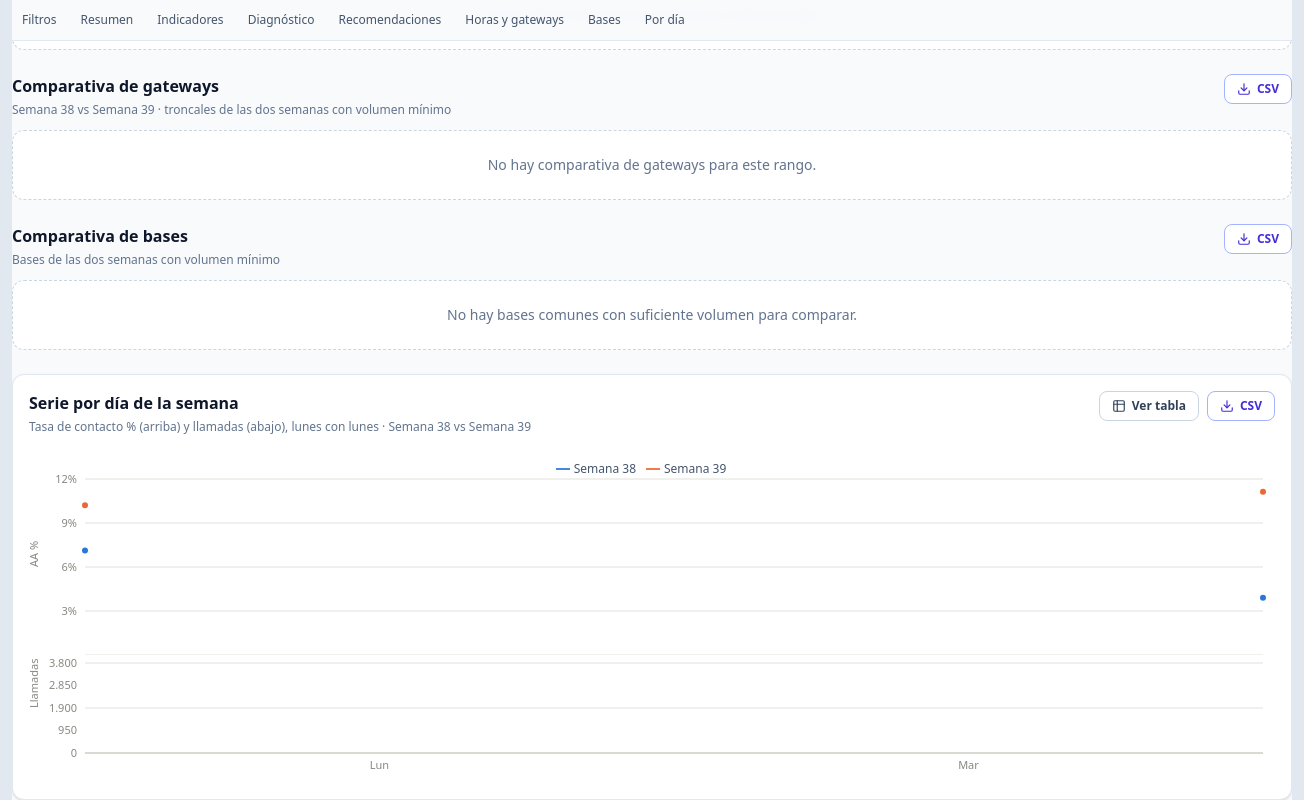
WeeksCompareMode › muestra las secciones con las etiquetas de las semanas y alinea los días
(page scrolled)
Click the button with test id "chart-table-toggle" at (1149, 406), box [1099,391,1199,421]
(page scrolled)
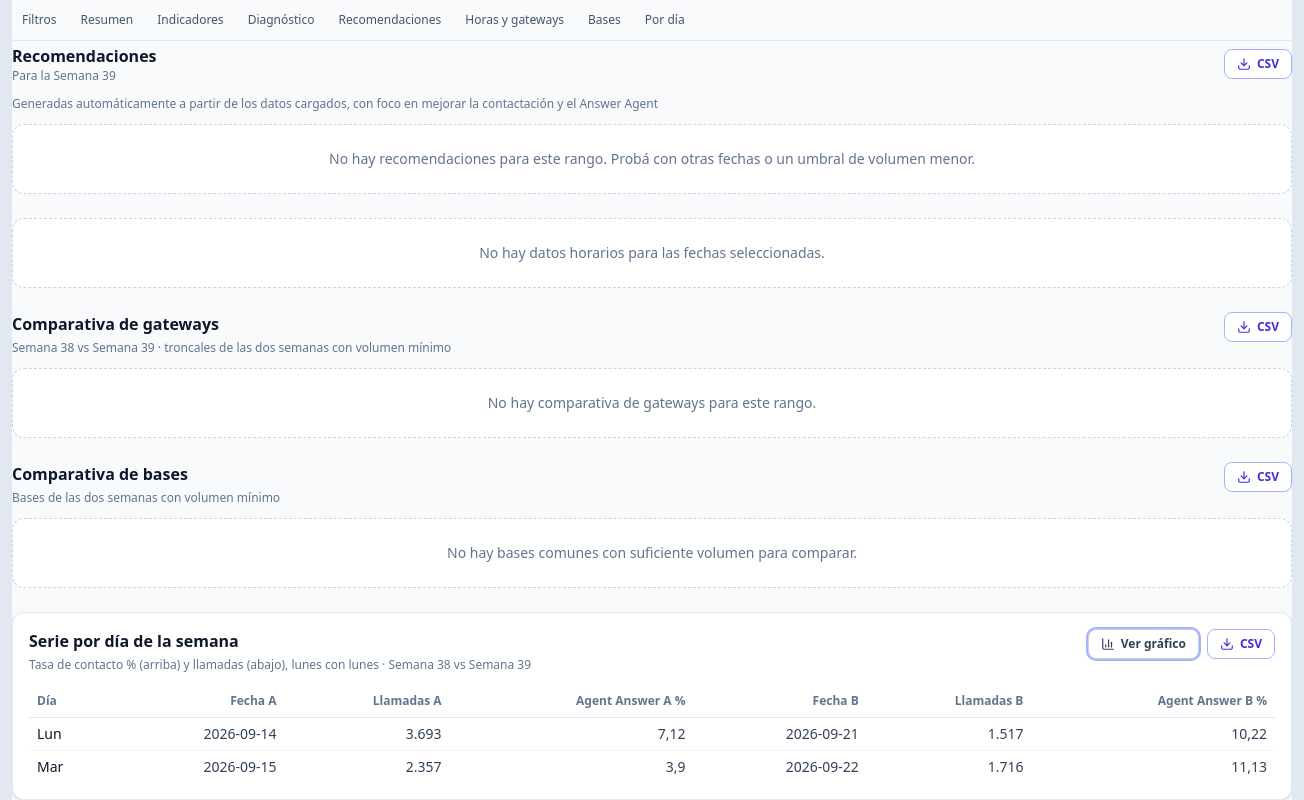
Expected: the row "Lun 2026-09-14 3.693 7,12 2026-09-21 1.517 10,22" is shown, [29,718,1275,750]
Expected: the row "Mar 2026-09-15 2.357 3,9 2026-09-22 1.716 11,13" is shown, [29,750,1275,783]
